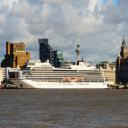cruises: (8, 57, 112, 92)
